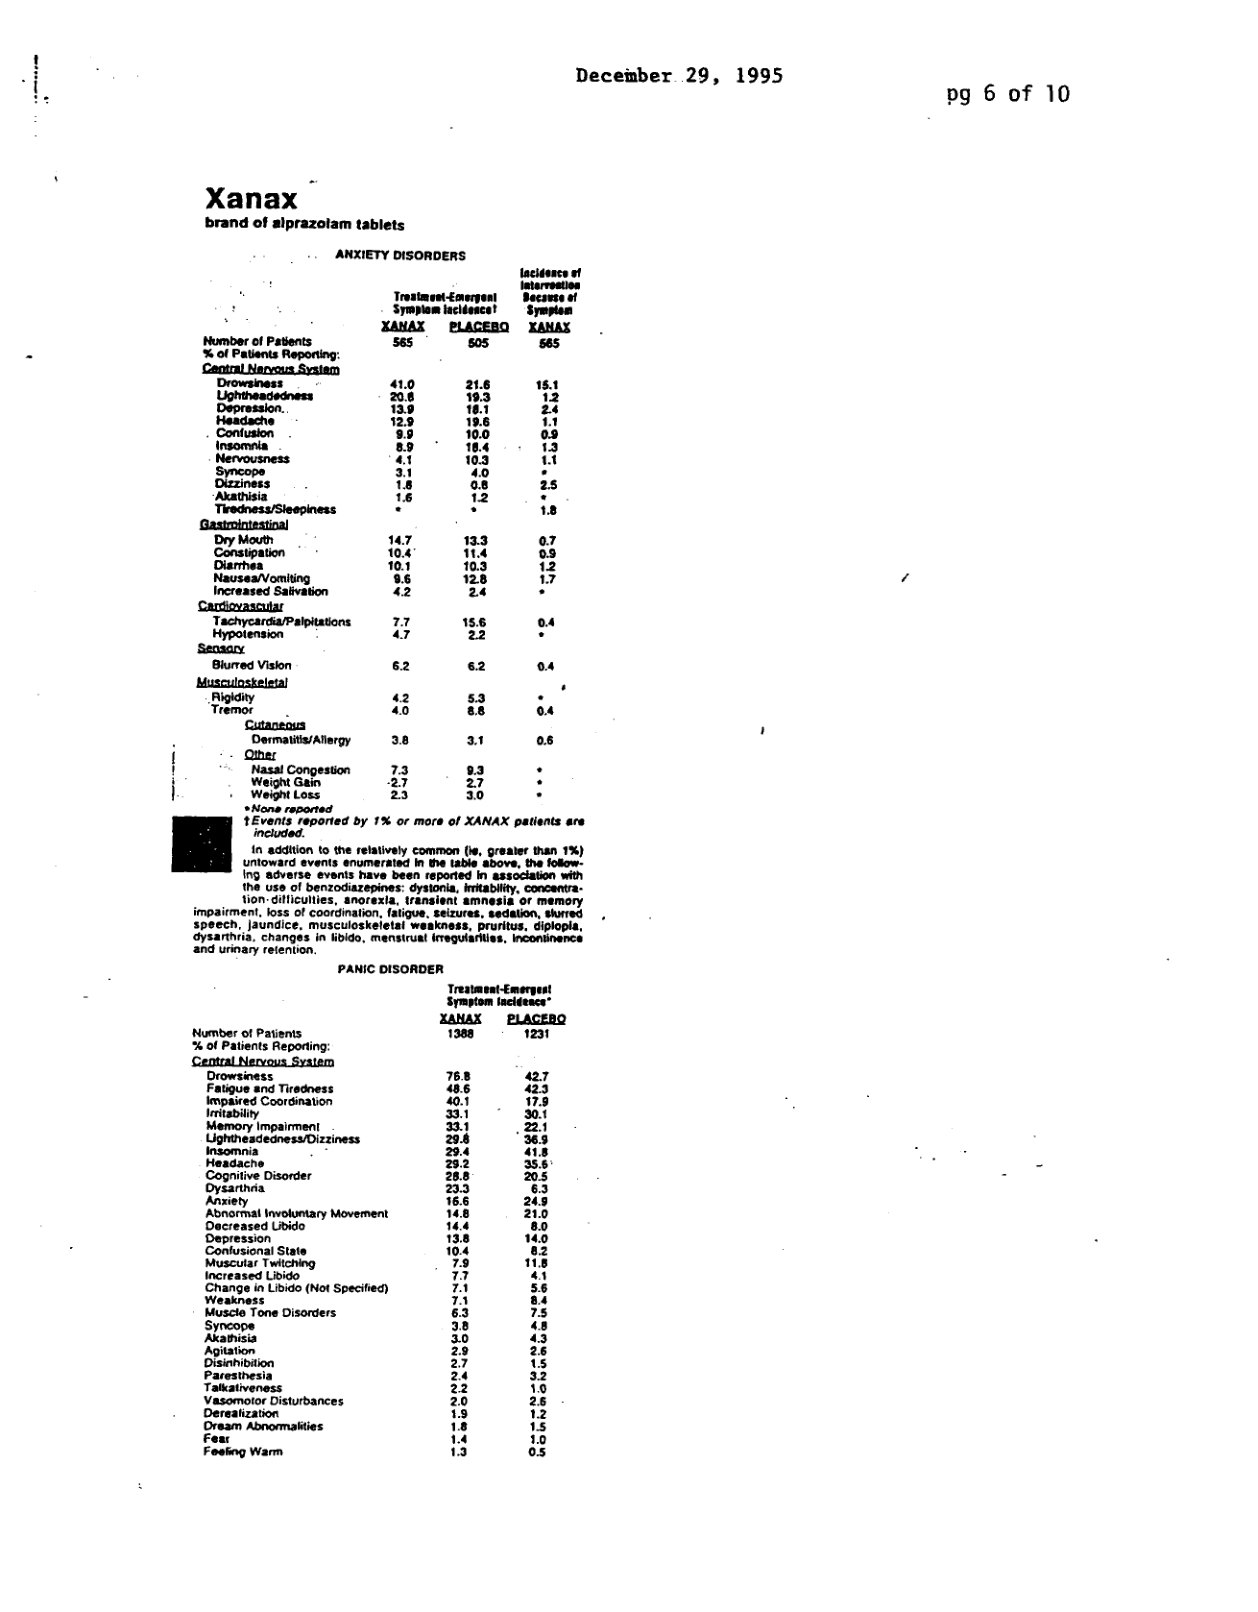nolines: (194, 267, 584, 806), (189, 979, 569, 1462)
